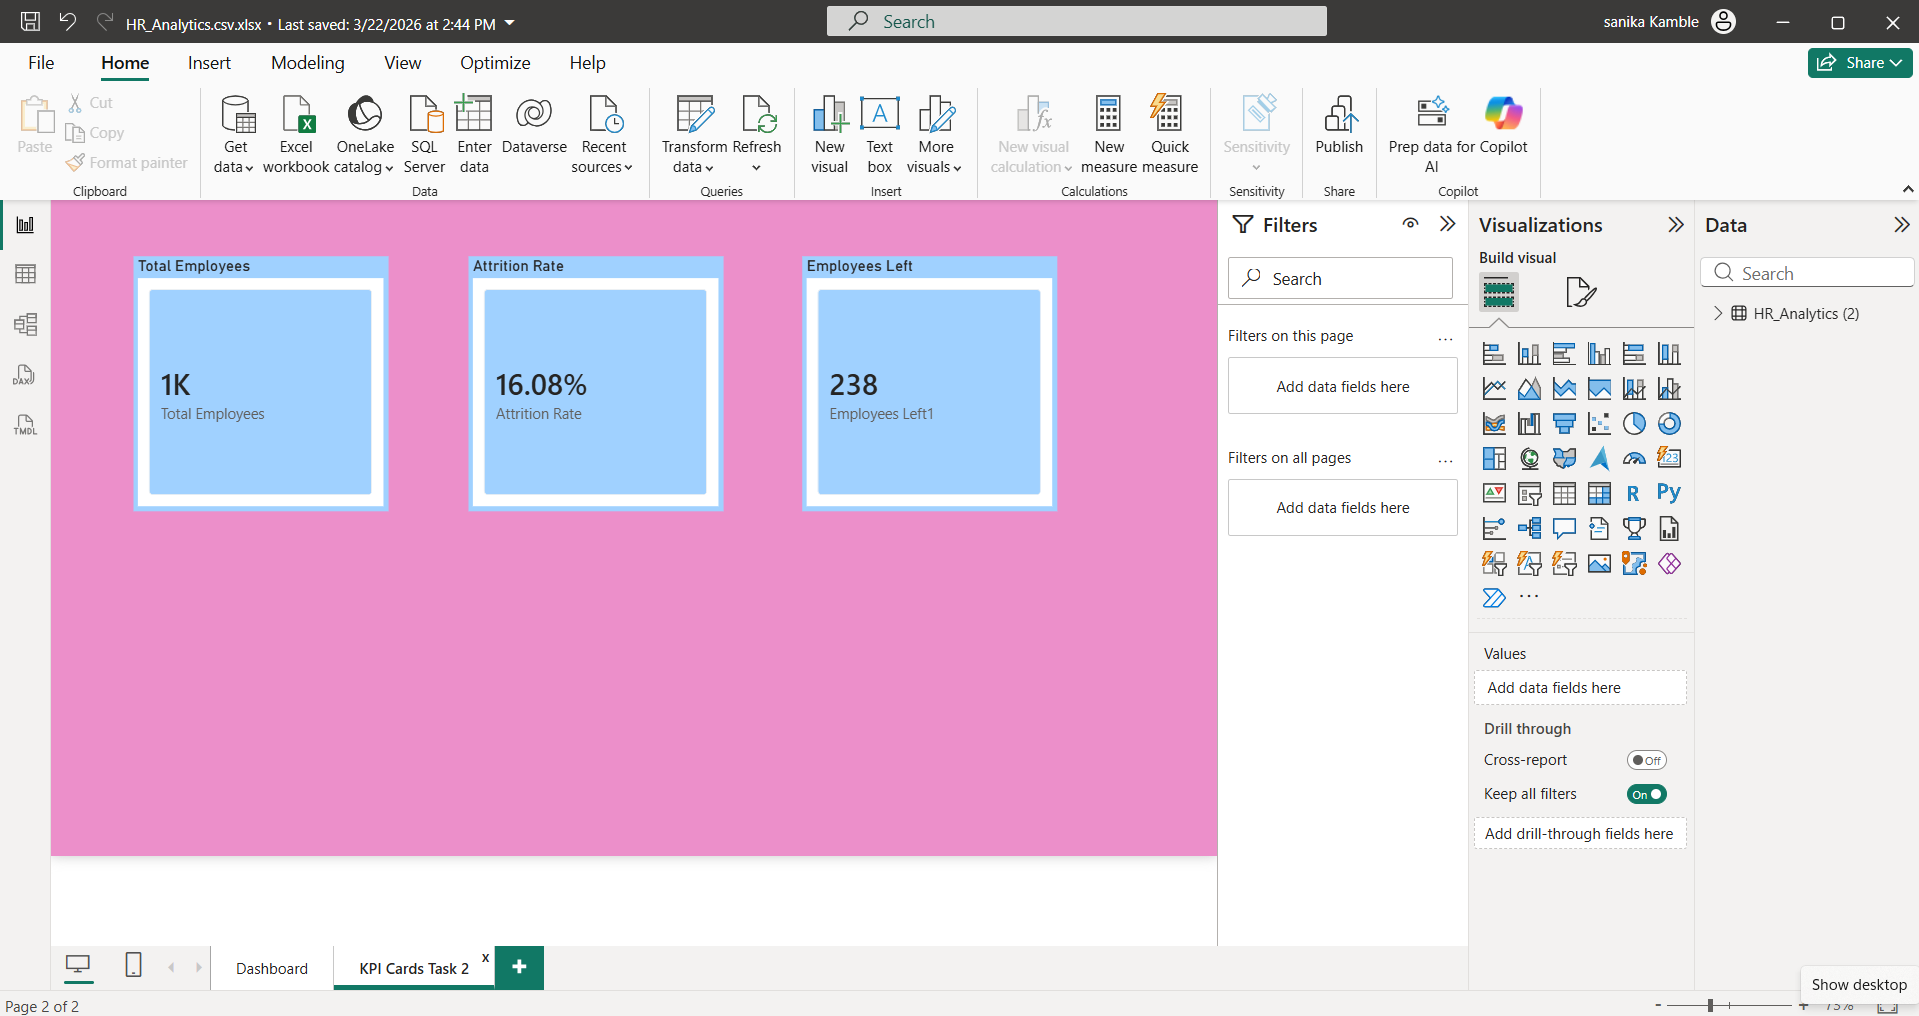

The page's visual inventory and layout, read from the dashboard file:
{"tool":"powerbi","page":{"name":" KPI Cards Task 2","canvas":[1280,720],"ordinal":1},"visuals":[{"type":"cardVisual","title":"Total Employees","fields":{"Data":["HR_Analytics (2).Total Employees"]},"box":[90.6,61.7,279.9,279.9],"z":0},{"type":"cardVisual","title":"Employees Left","fields":{"Data":["HR_Analytics (2).Employees Left1"]},"box":[824.7,61.7,279.9,279.9],"z":1000},{"type":"cardVisual","title":"Attrition Rate","fields":{"Data":["HR_Analytics (2).Attrition Rate"]},"box":[457.6,61.7,279.9,279.9],"z":2000}]}

Visuals, with their boxes on the page's 1280x720 design canvas (x1, y1, x2, y2). These are canvas units, not pixel positions in the 1919x1016 screenshot, which may show the page scaled, cropped or inside an application window:
"Total Employees" cardVisual: select_region(91, 62, 370, 342)
"Employees Left" cardVisual: select_region(825, 62, 1105, 342)
"Attrition Rate" cardVisual: select_region(458, 62, 738, 342)
